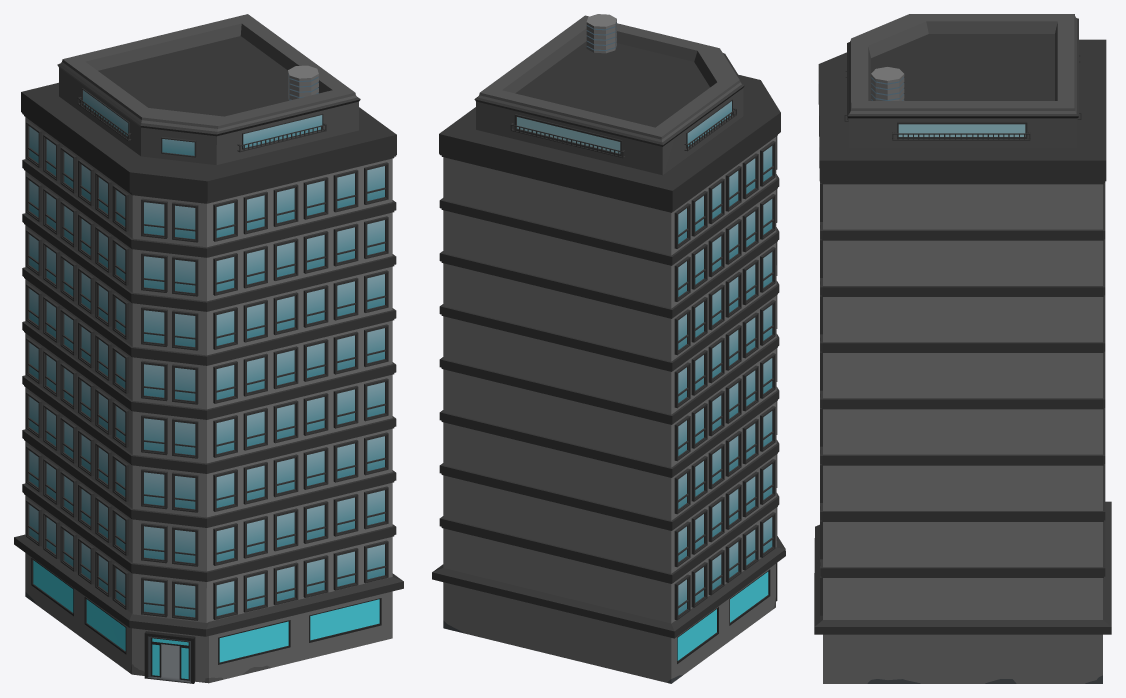
File: SM_Buildings_Office_02.fbx
3 renders of one model, left to right at view 1: azimuth 30°, elevation 25°; view 2: azimuth 150°, elevation 25°; view 3: azimuth 270°, elevation 25°, orthographic. The views are drawn at different scales.
Parts seen in each view (by area): view 1: SM_Buildings_Office_02; view 2: SM_Buildings_Office_02; view 3: SM_Buildings_Office_02.
Part boxes in pixels (x1=…): SM_Buildings_Office_02: x1=14, y1=14, x2=403, y2=683; SM_Buildings_Office_02: x1=432, y1=14, x2=785, y2=683; SM_Buildings_Office_02: x1=814, y1=14, x2=1111, y2=683.
Size of the model in its own units: 18.95 by 40.9 by 18.97.
